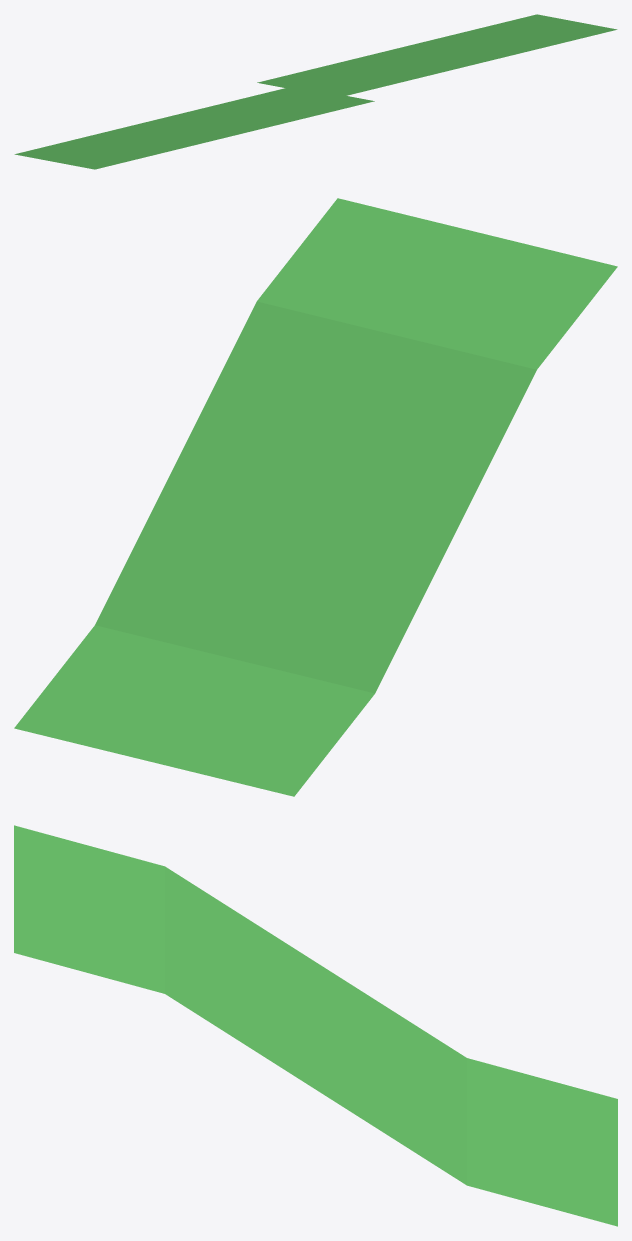
Rendered from Hilly_Terrain_Hill_Side_Sharp.glb.
The picture shows the model from 3 angles, top to bottom: view 1: azimuth 30°, elevation 25°; view 2: azimuth 150°, elevation 25°; view 3: azimuth 270°, elevation 25°; orthographic projection. The views are drawn at different scales.
Parts seen in each view (by area): view 1: Hilly_Terrain_Hill_Side_Sharp; view 2: Hilly_Terrain_Hill_Side_Sharp; view 3: Hilly_Terrain_Hill_Side_Sharp.
Boxes of the visible parts, x1,y1,x2,y2 form: Hilly_Terrain_Hill_Side_Sharp: (14, 14, 617, 169); Hilly_Terrain_Hill_Side_Sharp: (14, 198, 617, 796); Hilly_Terrain_Hill_Side_Sharp: (14, 825, 617, 1226).
Size of the model in its own units: 1 by 1 by 2.
